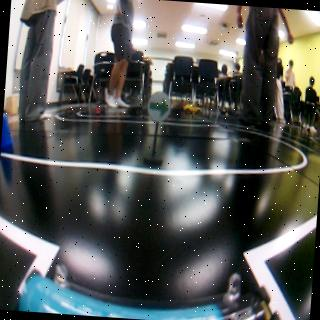right: (148, 93, 168, 122)
